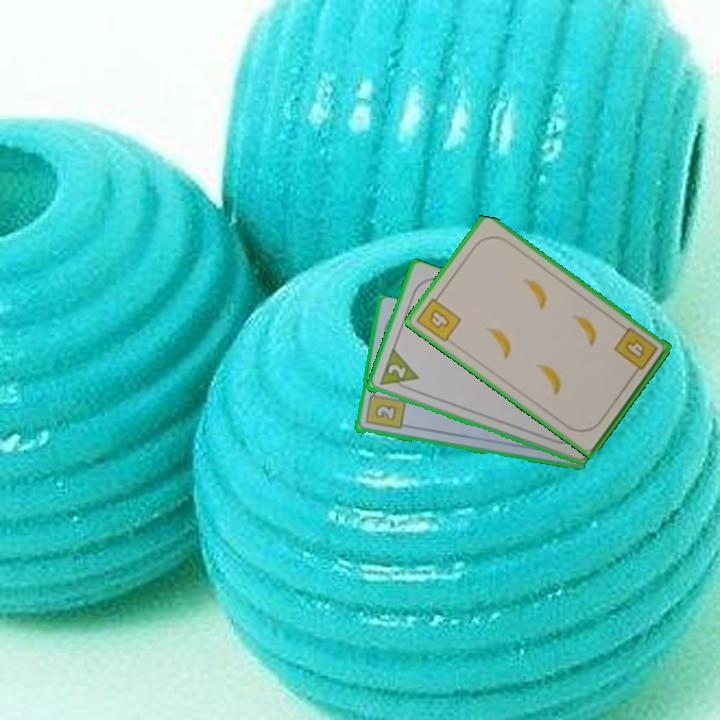2b: (362, 385, 408, 433)
2p: (375, 347, 421, 395)
4b: (412, 289, 464, 345), (610, 324, 661, 378)
